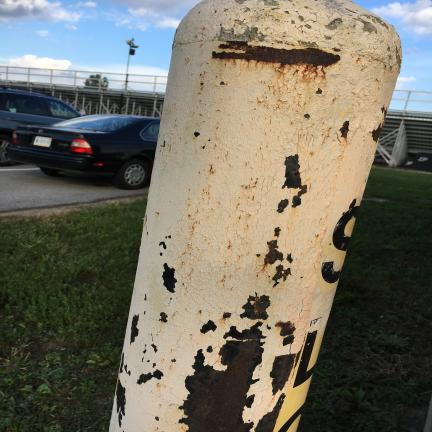karat: (179, 322, 264, 431), (213, 41, 340, 67), (270, 354, 296, 394), (240, 293, 270, 319), (283, 155, 302, 188), (265, 240, 283, 264), (116, 381, 125, 426), (163, 264, 176, 292), (276, 322, 295, 336), (131, 315, 138, 343), (201, 321, 216, 333), (372, 125, 381, 142), (340, 121, 349, 137), (160, 312, 167, 322)
